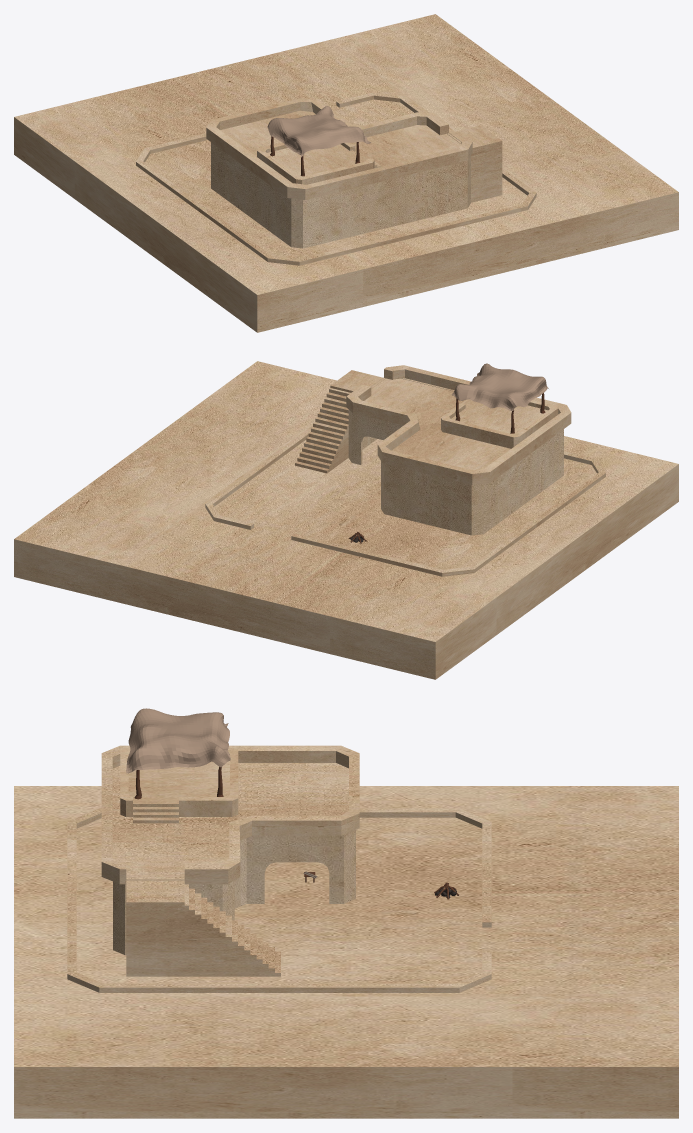
The model's file is House_Simple.glb.
3 views of the same model, one above another, from view 1: azimuth 30°, elevation 25°; view 2: azimuth 150°, elevation 25°; view 3: azimuth 270°, elevation 25° (orthographic). The views are drawn at different scales.
Parts seen in each view (by area): view 1: bottom.001, wall.005, roof.001, fence.001, roof.002, balcony.001, 2f_balcony_top.001, stair.001; view 2: bottom.001, wall.004, roof.001, roof.002, fence.001, wall.005, balcony.001, stair.001, 2f_balcony_top.001; view 3: bottom.001, roof.002, stair.001, roof.001, fence.001, wall.004, balcony.001, 2f_balcony_top.001, wall.005.
Part boxes in pixels (left/top/right/bottom): bottom.001: left=14, top=14, right=678, bottom=332; wall.005: left=211, top=142, right=470, bottom=248; roof.001: left=206, top=98, right=472, bottom=199; fence.001: left=136, top=92, right=536, bottom=265; roof.002: left=220, top=110, right=461, bottom=166; balcony.001: left=257, top=142, right=381, bottom=184; 2f_balcony_top.001: left=267, top=106, right=370, bottom=157; stair.001: left=449, top=125, right=502, bottom=202; bottom.001: left=14, top=361, right=678, bottom=679; wall.004: left=348, top=377, right=483, bottom=535; roof.001: left=346, top=365, right=571, bottom=484; roof.002: left=364, top=378, right=510, bottom=469; fence.001: left=205, top=425, right=605, bottom=576; wall.005: left=401, top=378, right=563, bottom=533; balcony.001: left=441, top=399, right=558, bottom=448; stair.001: left=295, top=370, right=382, bottom=473; 2f_balcony_top.001: left=452, top=363, right=548, bottom=410; bottom.001: left=14, top=786, right=678, bottom=1118; roof.002: left=112, top=763, right=348, bottom=880; stair.001: left=126, top=881, right=280, bottom=976; roof.001: left=101, top=745, right=359, bottom=884; fence.001: left=67, top=808, right=491, bottom=992; wall.004: left=125, top=830, right=355, bottom=955; balcony.001: left=120, top=748, right=238, bottom=823; 2f_balcony_top.001: left=126, top=708, right=230, bottom=773; wall.005: left=113, top=762, right=335, bottom=954.
Size of the model in its own units: 50 by 15.64 by 50.
8 materials, 5 textured.
